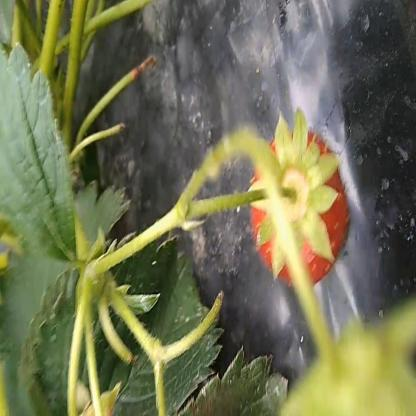ripe: (246, 125, 361, 296)
